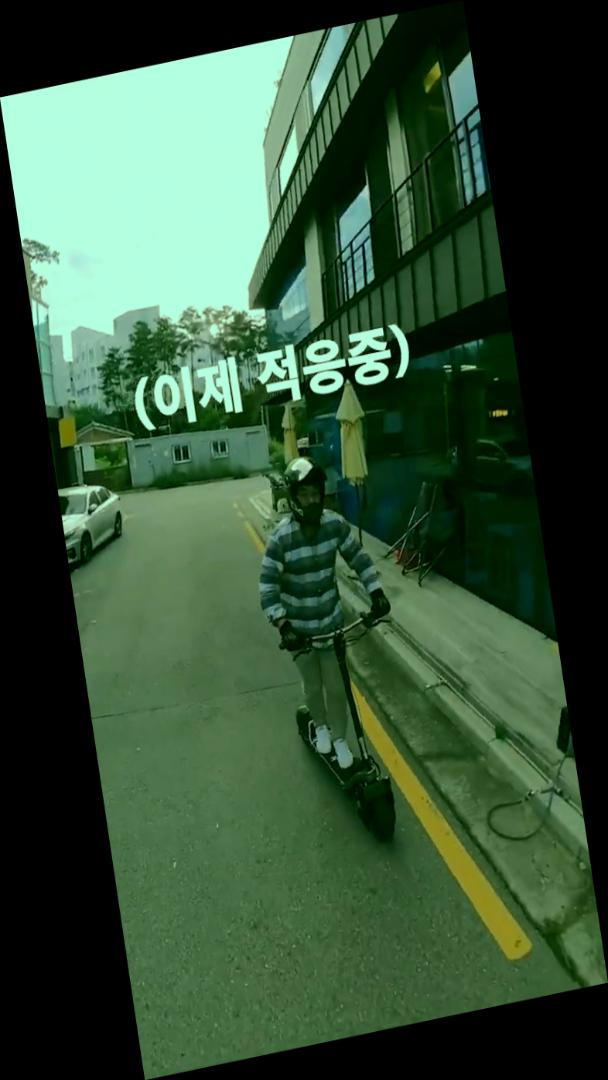helmet: (238, 440, 426, 866)
